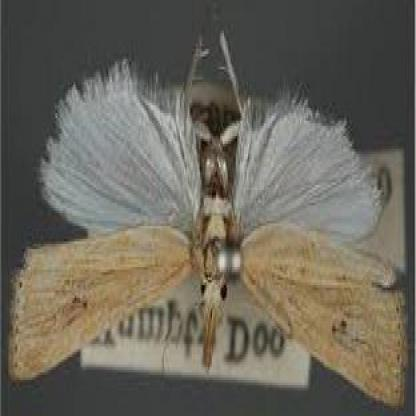stem-borer: (6, 27, 408, 412)
